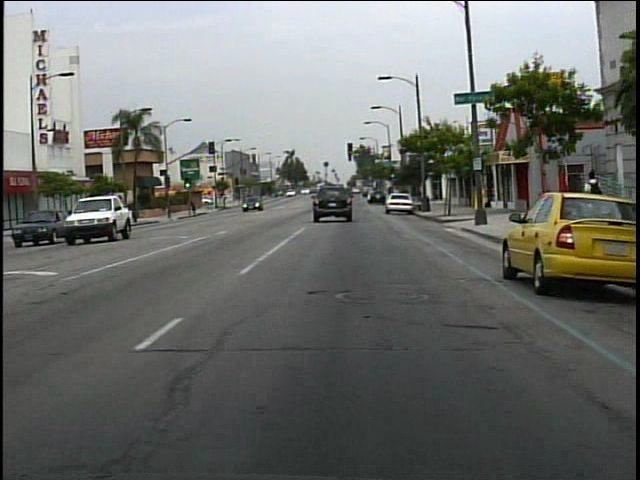person: (579, 164, 607, 212)
